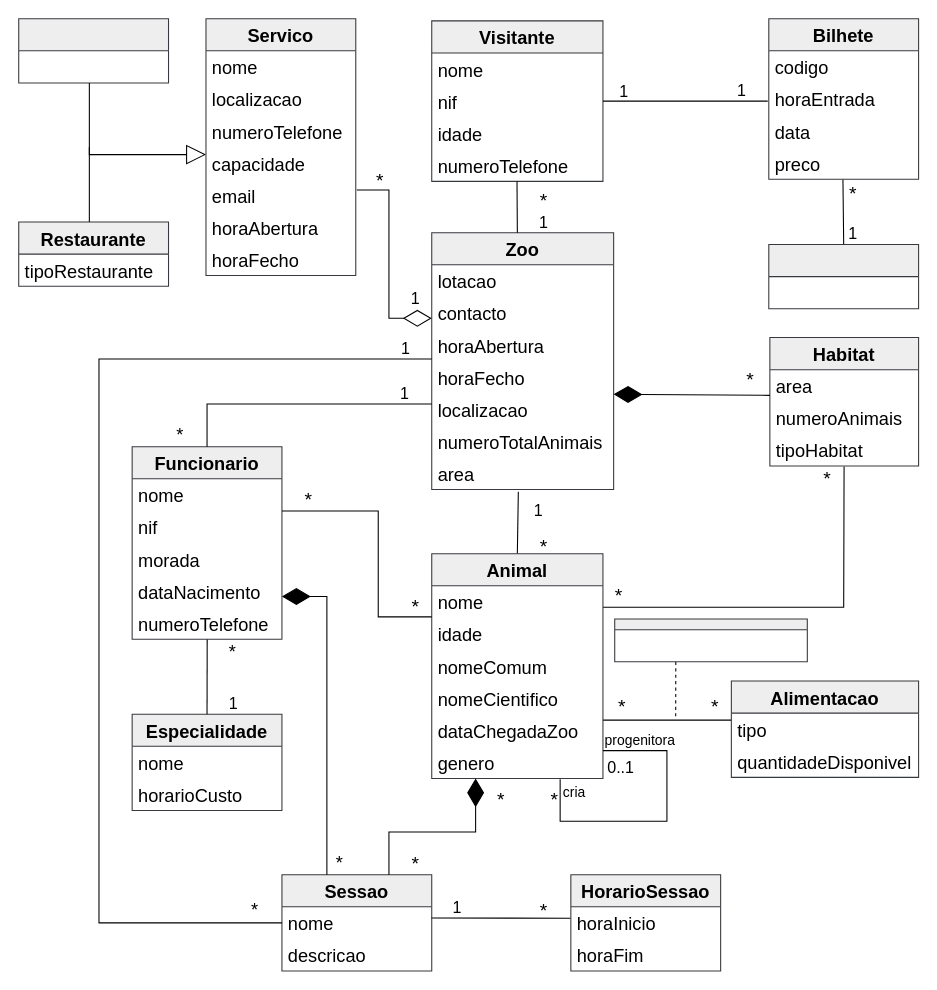
This 937x990 diagram has some shape labels left out. Here are the shapes that lost their labels. From the top down, the centre of each, then its label:
At (x=93, y=50): "Hotel".
At (x=843, y=276): "TipoBilhete".
At (x=710, y=640): "quantidadeNecessaria".
